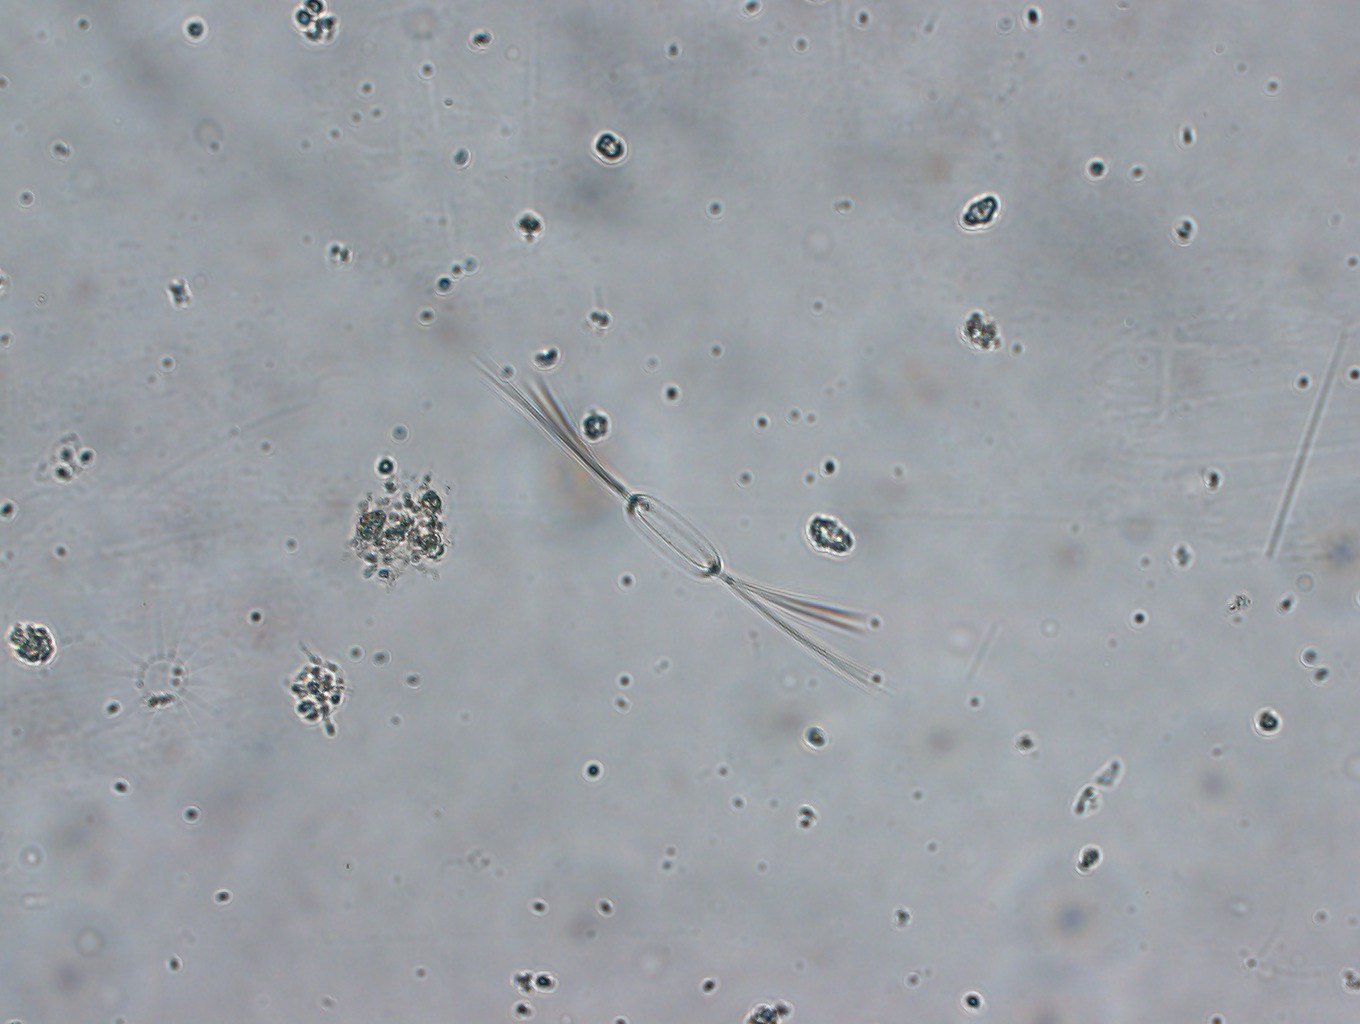chaetoceros: (469, 350, 884, 694)
